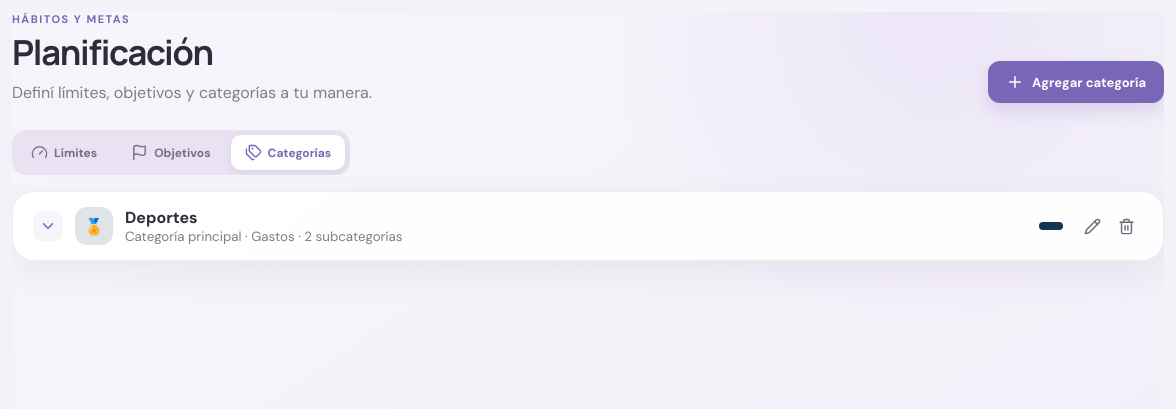
Test case: category hierarchy planning UI › shows subcategories in an accessible accordion
Step 1. Click the button named "Mostrar subcategorías de Deportes" → point(48, 226), box x1=33 y1=211 x2=63 y2=241
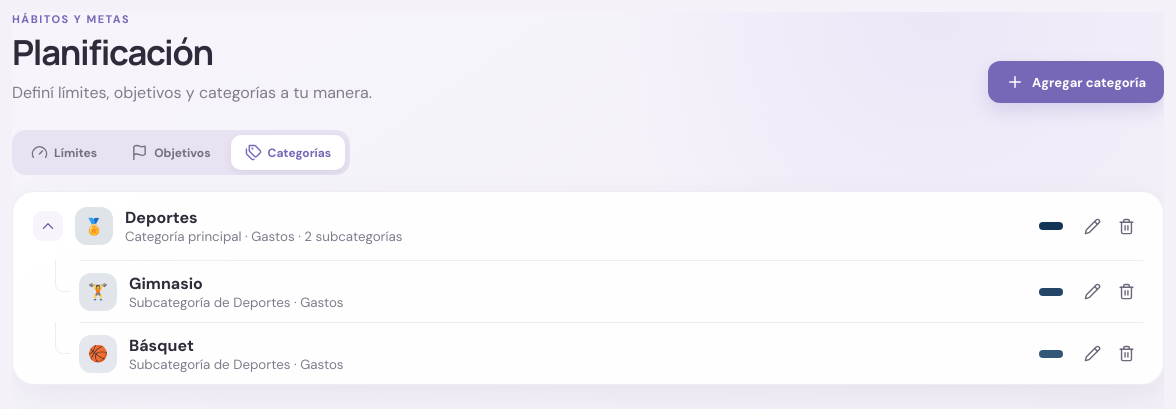
Result: the button named "Ocultar subcategorías de Deportes" is expanded at x1=33 y1=211 x2=63 y2=241
Result: the text "Subcategoría de Deportes · Gastos" is shown 2 times at x1=129 y1=294 x2=344 y2=310; x1=129 y1=356 x2=344 y2=372
